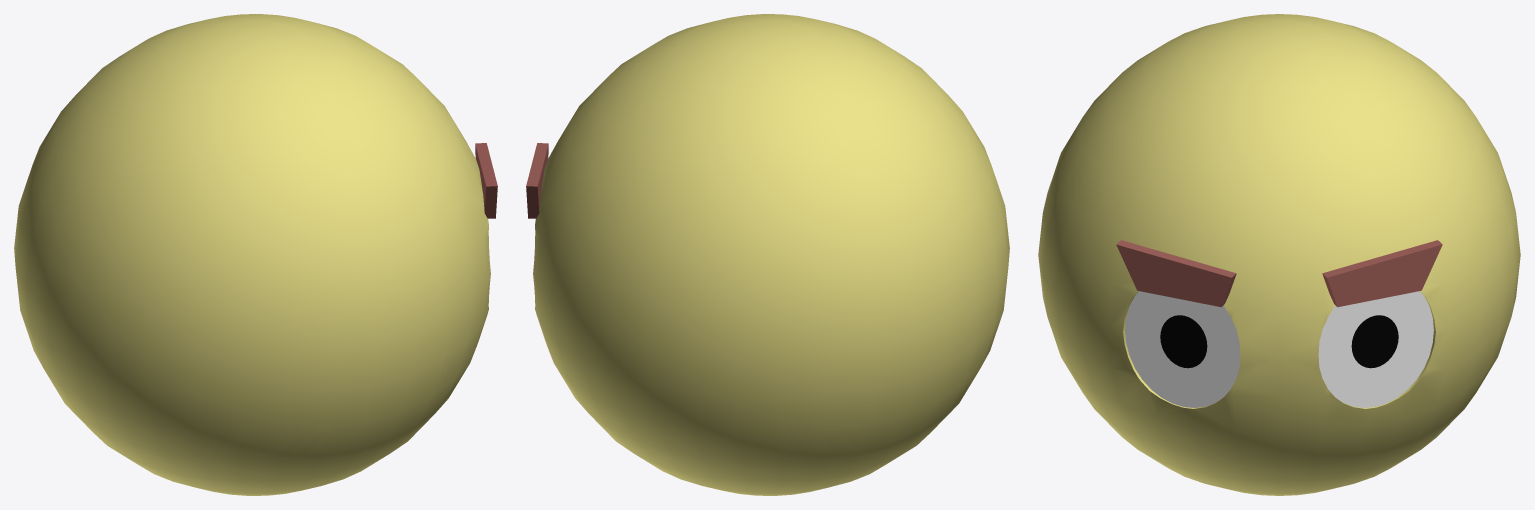
Rendered from ThiefPopulationIcon.fbx.
3 views of the same model, side by side, from view 1: azimuth 30°, elevation 25°; view 2: azimuth 150°, elevation 25°; view 3: azimuth 270°, elevation 25° (orthographic).
Parts seen in each view (by area): view 1: Sphere, Cube; view 2: Sphere, Cube.001; view 3: Sphere, Cylinder, Cylinder.001, Cube, Cube.001.
Boxes of the visible parts, x1=… form: Sphere: x1=14, y1=14, x2=490, y2=495; Cube: x1=475, y1=143, x2=497, y2=218; Sphere: x1=533, y1=14, x2=1009, y2=495; Cube.001: x1=526, y1=143, x2=548, y2=218; Sphere: x1=1038, y1=14, x2=1520, y2=495; Cylinder: x1=1125, y1=291, x2=1240, y2=407; Cylinder.001: x1=1318, y1=291, x2=1433, y2=407; Cube: x1=1116, y1=240, x2=1236, y2=307; Cube.001: x1=1322, y1=240, x2=1442, y2=307.
Bounding box in the file's own units: 25 × 25 × 25.
